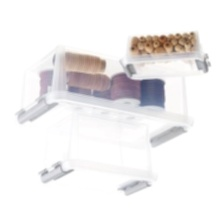plastic_box: (8, 38, 200, 154), (31, 108, 162, 207), (113, 24, 215, 84)
